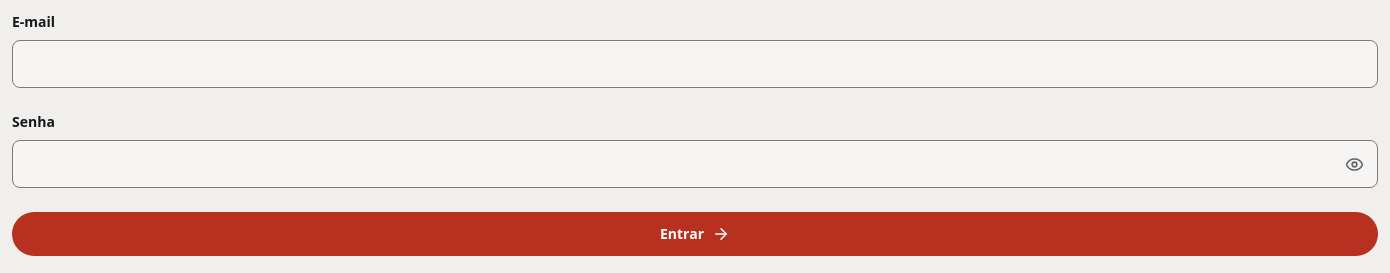
Login form › announces pending state and blocks a duplicate submission
The image size is (1390, 273).
Step 1. Type "amanda@example.test" into the field labelled "E-mail" → (695, 64), box [12, 40, 1378, 88]
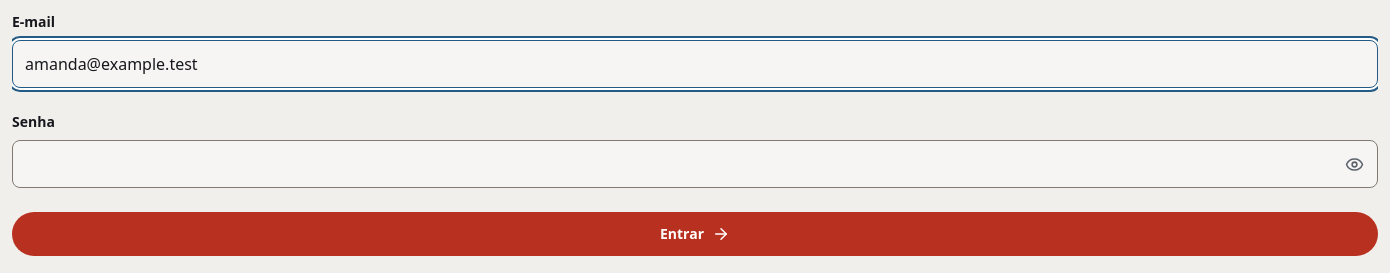
Step 2. Type "password" into the password field labelled "Senha" → (695, 164), box [12, 140, 1378, 188]
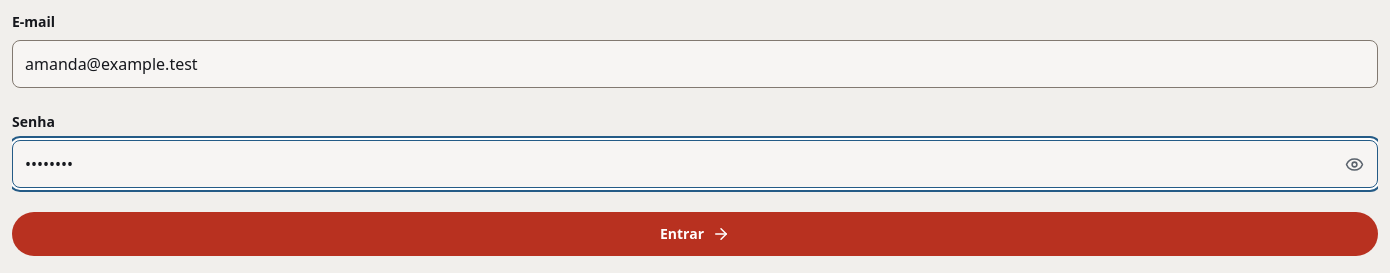
Step 3. Double-click the button "Entrar" → (695, 234), box [12, 212, 1378, 256]
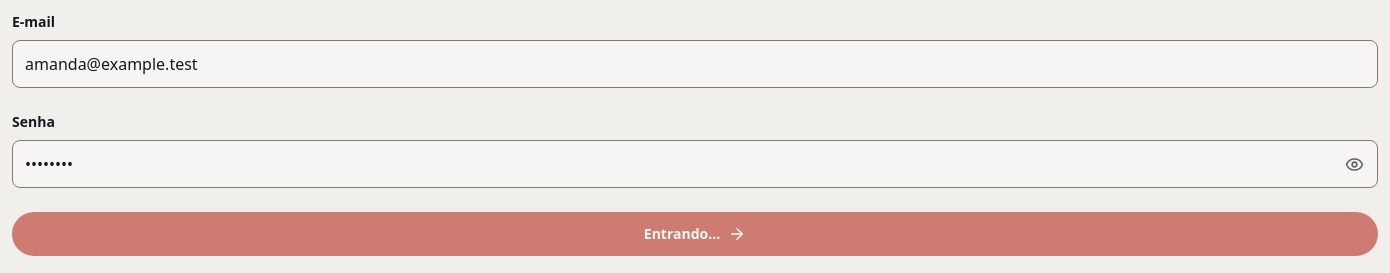
Check: the button "Entrando…" is disabled, box [12, 212, 1378, 256]
